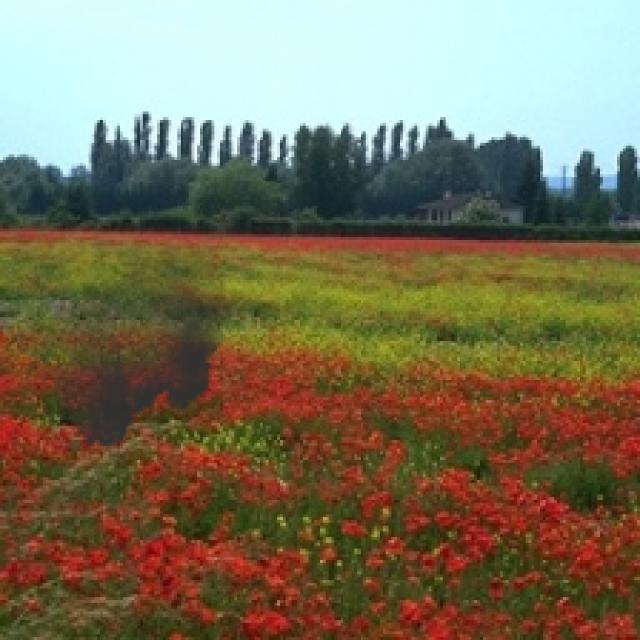smoke: (8, 232, 232, 457)
